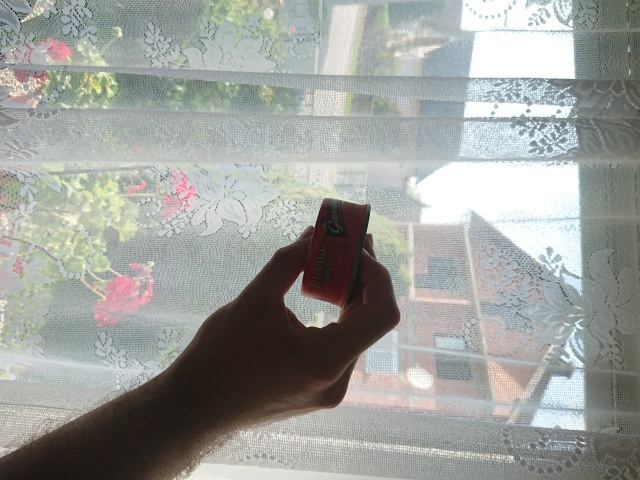Gavrilovic Pork Liver Pate 100g: (299, 195, 374, 313)
